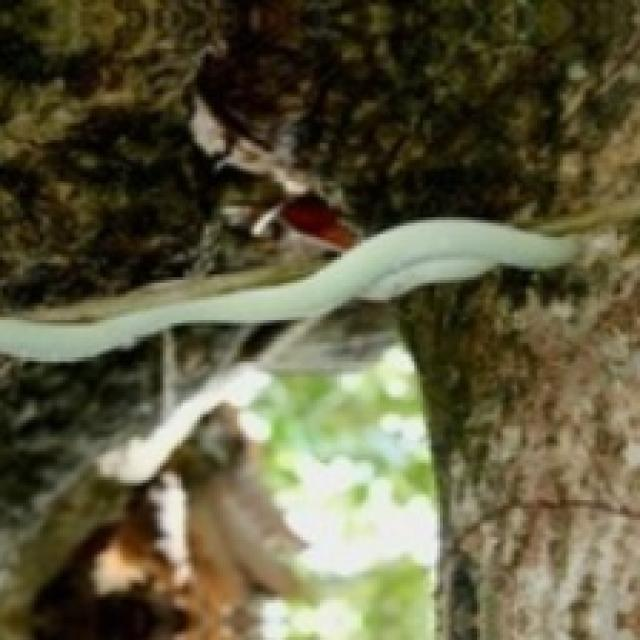north ph temple pitviper: (0, 217, 574, 360)
